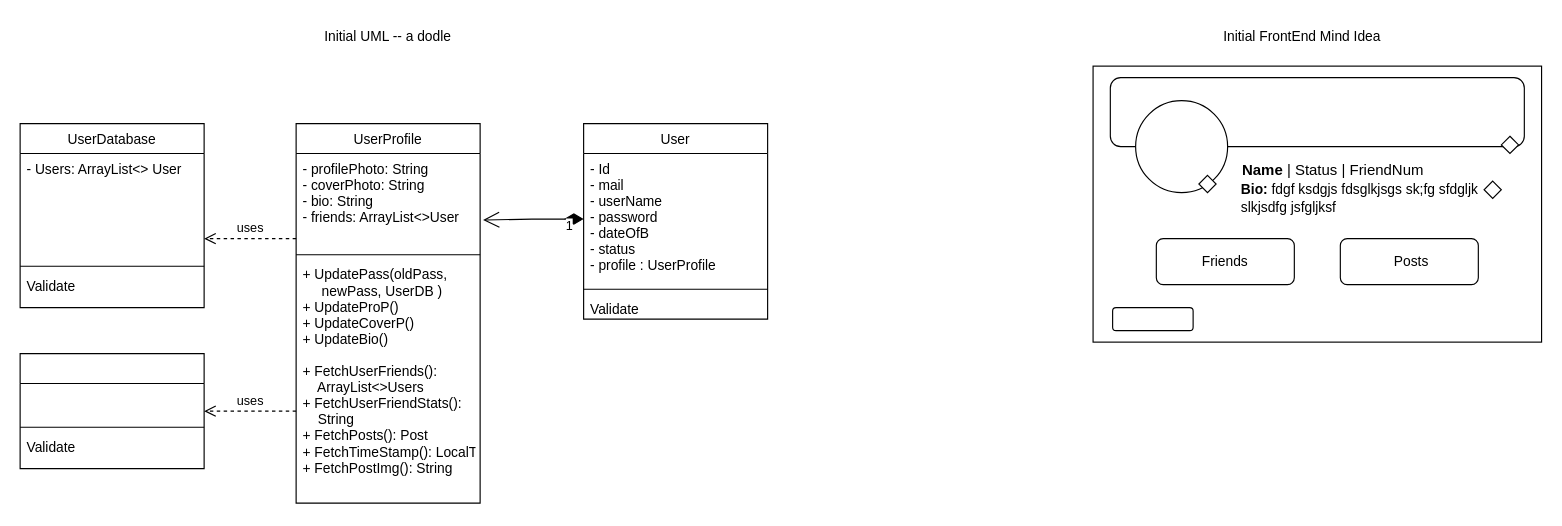
Image size: 1562x526. Some labels were removed from this diagram. Each missing label, with the box of its shape:
Back: (1111, 306, 1193, 331)
Post: (19, 352, 204, 469)
